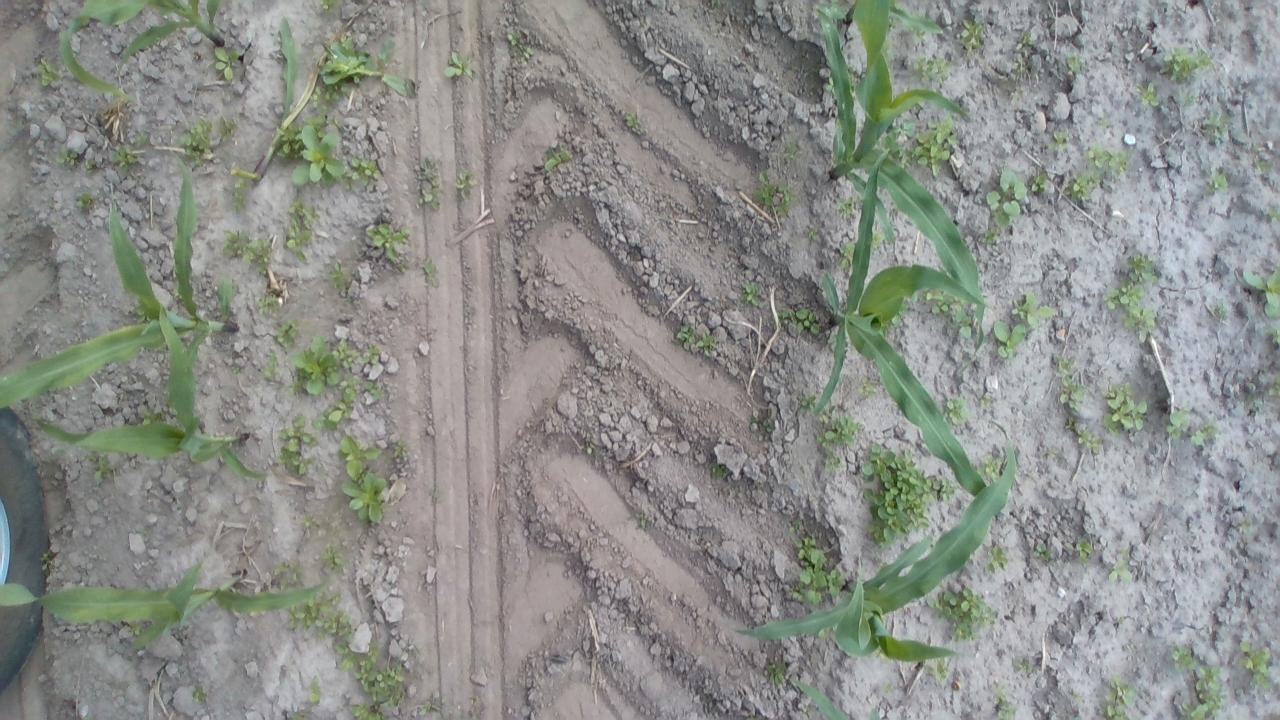Maize: (719, 418, 1016, 661), (820, 148, 1005, 528), (0, 150, 239, 410), (814, 0, 992, 308), (28, 305, 268, 483), (0, 555, 332, 652), (57, 0, 226, 104), (817, 0, 947, 35), (792, 674, 882, 720)
Weeds: (860, 442, 930, 549), (318, 36, 417, 98), (338, 433, 388, 523), (926, 586, 994, 642), (790, 536, 844, 604), (287, 590, 354, 642), (286, 334, 339, 395), (292, 125, 344, 187), (1106, 279, 1156, 343), (1180, 665, 1230, 720), (354, 659, 406, 708), (1100, 380, 1149, 432), (277, 413, 318, 475), (986, 170, 1028, 229), (285, 196, 321, 264), (870, 118, 916, 170), (918, 115, 956, 177), (1241, 264, 1280, 319), (753, 170, 798, 216), (1238, 638, 1274, 690), (1054, 354, 1086, 412), (178, 117, 212, 166), (365, 223, 410, 260), (1100, 674, 1136, 720), (1084, 142, 1130, 178), (1158, 44, 1198, 85), (1011, 292, 1054, 330), (418, 154, 444, 209), (272, 121, 305, 162), (230, 166, 258, 212), (993, 320, 1026, 358), (774, 307, 820, 334), (312, 400, 352, 431), (308, 80, 351, 108), (912, 56, 953, 84), (346, 154, 382, 185), (242, 237, 272, 274), (825, 416, 859, 448), (1068, 170, 1102, 202), (816, 434, 844, 472), (88, 451, 120, 481), (926, 476, 959, 505), (959, 19, 984, 55), (272, 562, 304, 590), (1202, 109, 1230, 141), (924, 284, 952, 316), (443, 51, 476, 78), (108, 146, 137, 176), (220, 229, 250, 258), (942, 395, 972, 424), (1108, 546, 1132, 582), (214, 46, 239, 80), (1127, 254, 1157, 282), (994, 684, 1017, 720), (332, 338, 359, 368), (1077, 428, 1105, 455), (974, 454, 1001, 481), (274, 319, 300, 347), (1170, 644, 1196, 672), (349, 701, 386, 720), (950, 308, 973, 338), (338, 372, 359, 404), (544, 148, 572, 172), (336, 643, 360, 670), (1166, 409, 1188, 438), (1189, 424, 1219, 445), (320, 544, 344, 570), (36, 58, 58, 86), (926, 656, 949, 682), (455, 171, 477, 198), (986, 545, 1008, 572), (1074, 536, 1094, 565), (1136, 82, 1160, 106), (1205, 172, 1229, 195), (696, 331, 718, 356), (740, 280, 761, 306), (303, 110, 336, 126), (890, 300, 910, 326), (748, 414, 774, 434), (54, 145, 78, 166), (256, 294, 280, 315), (329, 262, 347, 289), (838, 243, 856, 270), (766, 662, 788, 684), (262, 352, 280, 378), (218, 116, 235, 142), (132, 302, 152, 324), (782, 138, 802, 160), (835, 195, 854, 217), (1032, 542, 1052, 562), (904, 23, 926, 41), (308, 675, 322, 703), (315, 0, 341, 15), (363, 379, 382, 399), (362, 344, 381, 364), (859, 377, 878, 397), (1066, 51, 1084, 72), (1048, 130, 1069, 148), (708, 460, 729, 478), (799, 393, 816, 414), (421, 261, 437, 283), (1032, 172, 1048, 194), (846, 64, 858, 93), (1012, 657, 1032, 674), (819, 404, 836, 424), (676, 327, 696, 344), (1265, 324, 1280, 346), (392, 439, 408, 458), (625, 111, 641, 130), (981, 228, 998, 245), (367, 641, 380, 662), (504, 28, 520, 45), (1254, 158, 1272, 173), (816, 626, 838, 638), (192, 686, 206, 704), (141, 408, 155, 426), (872, 228, 886, 246), (76, 192, 90, 209), (1269, 375, 1280, 396), (805, 227, 820, 242), (954, 294, 968, 310), (134, 130, 146, 148), (83, 159, 97, 174), (1021, 30, 1036, 44), (40, 552, 51, 570), (637, 512, 648, 530), (521, 44, 535, 58), (1198, 52, 1210, 68), (826, 77, 836, 96), (420, 701, 432, 716), (1015, 58, 1026, 74), (1214, 304, 1227, 317), (1268, 208, 1280, 222), (1183, 93, 1195, 106), (300, 516, 314, 527), (126, 624, 140, 635), (1099, 116, 1110, 130), (1065, 417, 1076, 430), (1240, 520, 1250, 534), (789, 520, 800, 532), (889, 16, 898, 30), (886, 36, 896, 48), (828, 332, 838, 344), (1244, 394, 1256, 404), (174, 286, 182, 300), (883, 684, 894, 694), (803, 706, 814, 716), (230, 365, 240, 374), (1050, 450, 1061, 458), (980, 396, 990, 404), (688, 207, 698, 215), (293, 714, 306, 720), (1251, 144, 1260, 152), (1072, 694, 1081, 702), (586, 445, 594, 454), (142, 528, 151, 535), (1118, 616, 1124, 624), (401, 265, 406, 271), (746, 717, 754, 720)
